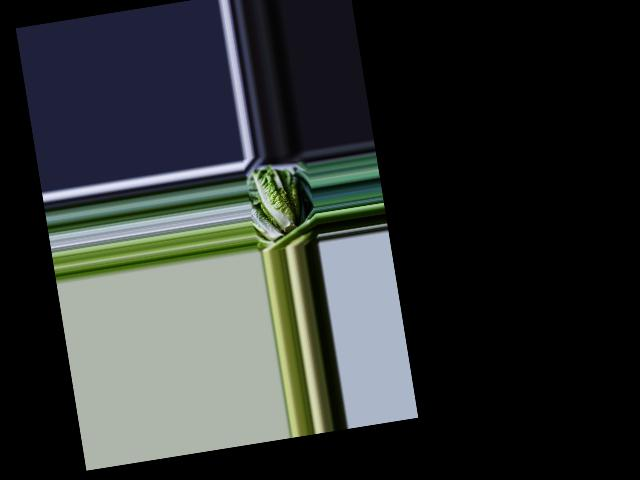lettuce: (251, 162, 304, 237)
